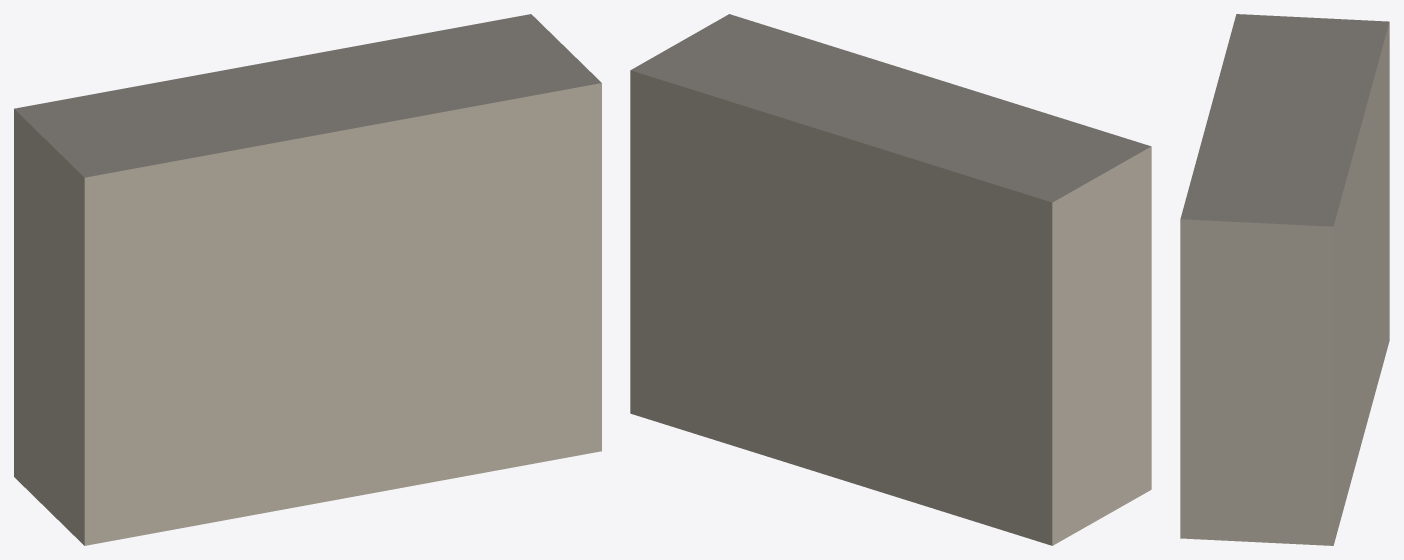
3 renders of one model, left to right at view 1: azimuth 30°, elevation 25°; view 2: azimuth 150°, elevation 25°; view 3: azimuth 270°, elevation 25°, orthographic. The views are drawn at different scales.
Visible parts, largest first — view 1: HP-w1424106487; view 2: HP-w1424106487; view 3: HP-w1424106487.
Boxes of the visible parts, x1,y1,x2,y2 form: HP-w1424106487: (14,14,601,545); HP-w1424106487: (630,14,1151,545); HP-w1424106487: (1180,14,1389,545).
Bounding box in the file's own units: 25.72 × 18 × 10.69.
